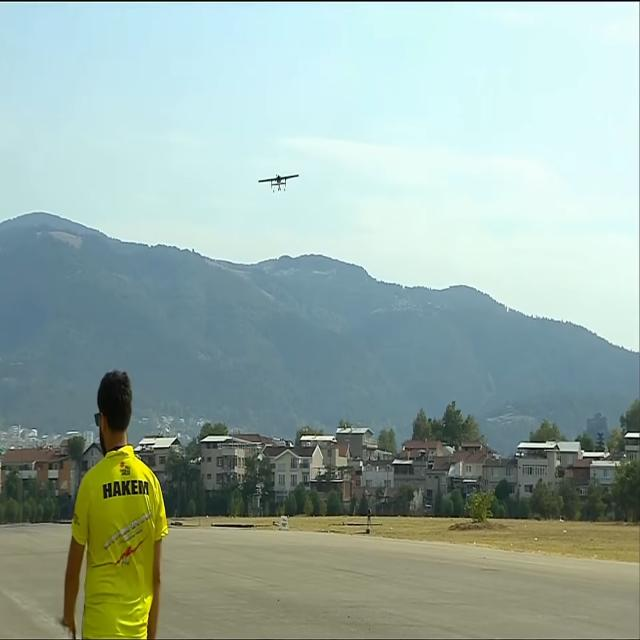iha: (257, 171, 301, 192)
